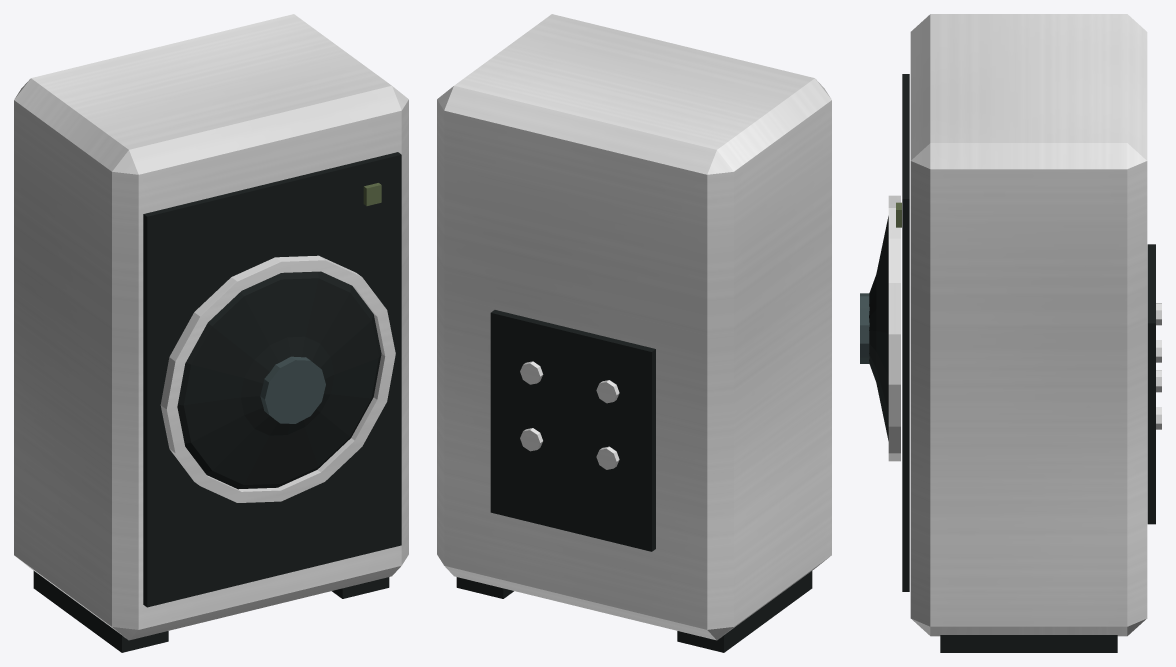
File: loudspeaker.obj
3 renders of one model, left to right at view 1: azimuth 30°, elevation 25°; view 2: azimuth 150°, elevation 25°; view 3: azimuth 270°, elevation 25°, orthographic.
Parts seen in each view (by area): view 1: loudspeaker; view 2: loudspeaker; view 3: loudspeaker.
Boxes of the visible parts, x1=… form: loudspeaker: x1=14, y1=14, x2=408, y2=652; loudspeaker: x1=437, y1=14, x2=831, y2=652; loudspeaker: x1=860, y1=14, x2=1161, y2=652.
Bounding box in the file's own units: 0.7 × 1.14 × 0.613.
